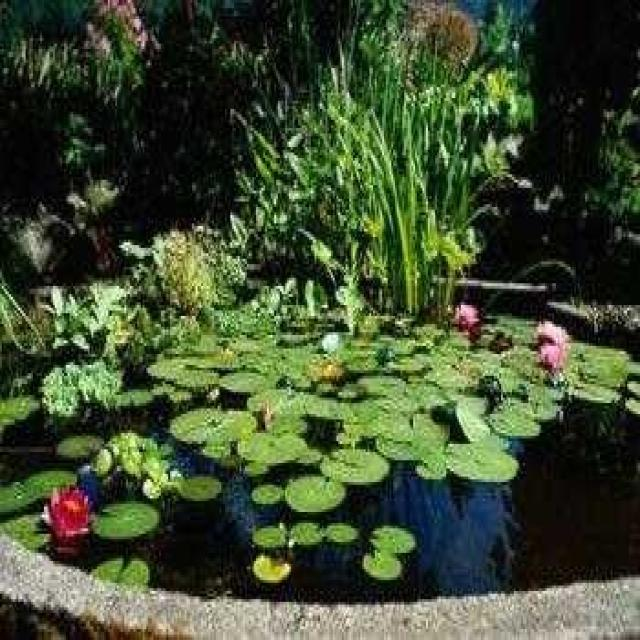Ponds: (1, 226, 640, 640)
